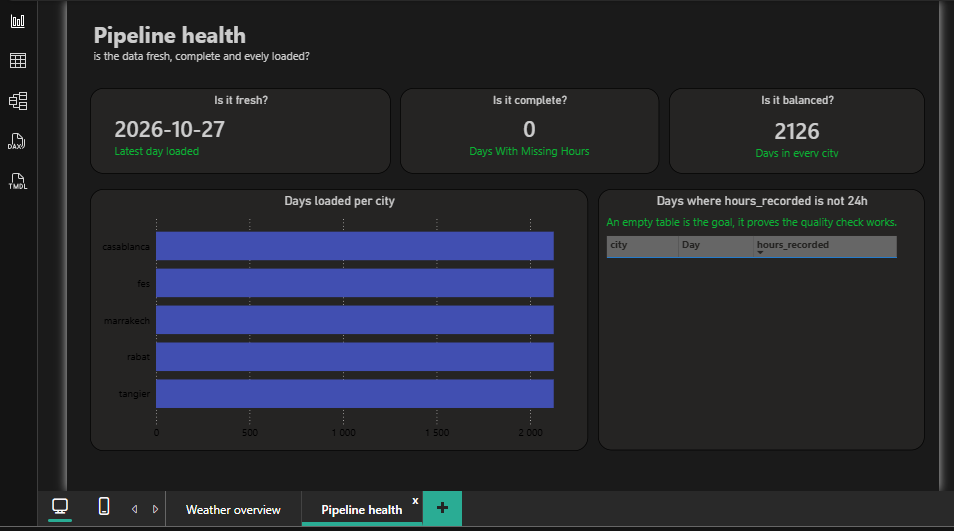

The dashboard page shown, as its layout file describes it:
{"tool":"powerbi","page":{"name":"Pipeline health","canvas":[1280,720],"ordinal":1},"visuals":[{"type":"cardVisual","title":"Is it fresh?","fields":{"Data":["Max(weather_daily.day)"]},"box":[33.8,127.8,442.3,126.4],"z":0},{"type":"cardVisual","title":"Is it complete?","fields":{"Data":["weather_daily.Days With Missing Hours"]},"box":[489.3,127.8,380.6,126.4],"z":1},{"type":"cardVisual","title":"Is it balanced?","fields":{"Data":["weather_daily.Days Per City"]},"box":[884.6,127.8,376.2,126.4],"z":2},{"type":"clusteredBarChart","title":"Days loaded per city","fields":{"Category":["weather_daily.city"],"Y":["CountNonNull(weather_daily.day)"]},"box":[33.8,276.2,731.8,385],"z":3},{"type":"tableEx","title":"Days where hours_recorded is not 24h","fields":{"Values":["weather_daily.city","weather_daily.day.Variation.Date Hierarchy.Day","weather_daily.hours_recorded"]},"box":[780.2,276.2,480.5,383.5],"z":4},{"type":"textbox","box":[33.8,22,343.8,91.1],"z":5}]}

Visuals, with their boxes on the page's 1280x720 design canvas (x1, y1, x2, y2). These are canvas units, not pixel positions in the 954x531 screenshot, which may show the page scaled, cropped or inside an application window:
"Is it fresh?" cardVisual: bbox(34, 128, 476, 254)
"Is it complete?" cardVisual: bbox(489, 128, 870, 254)
"Is it balanced?" cardVisual: bbox(885, 128, 1261, 254)
"Days loaded per city" clusteredBarChart: bbox(34, 276, 766, 661)
"Days where hours_recorded is not 24h" tableEx: bbox(780, 276, 1261, 660)
textbox: bbox(34, 22, 378, 113)
